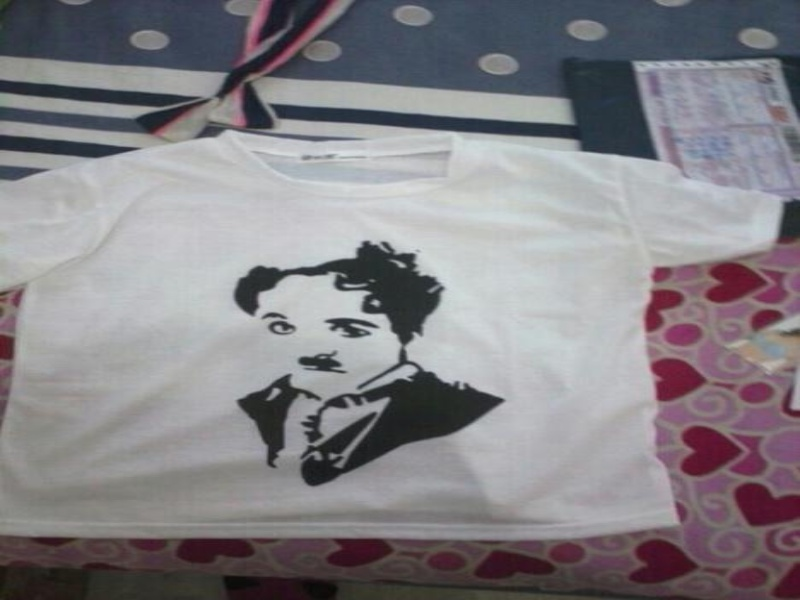short_sleeved_shirt: (2, 125, 797, 551)
